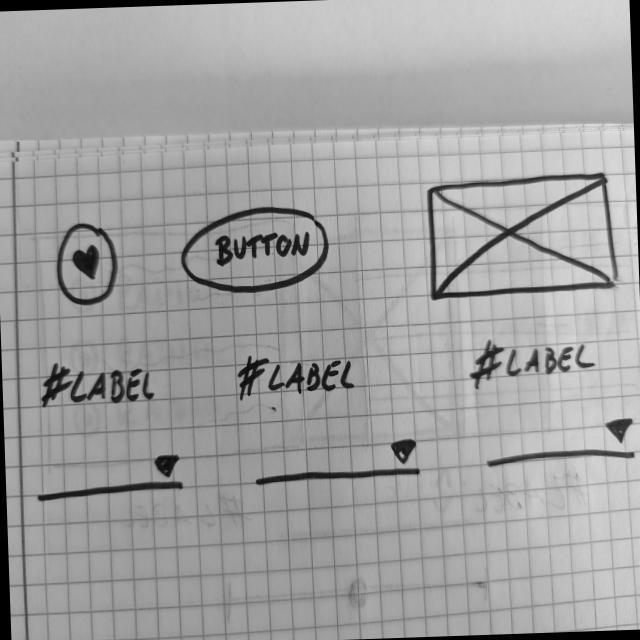button: (179, 202, 333, 298)
icon-button: (54, 220, 123, 310)
image: (423, 170, 624, 305)
label: (465, 332, 600, 390), (234, 349, 357, 404), (38, 358, 160, 411)
select: (478, 414, 640, 474), (251, 435, 424, 491), (34, 452, 190, 505)
